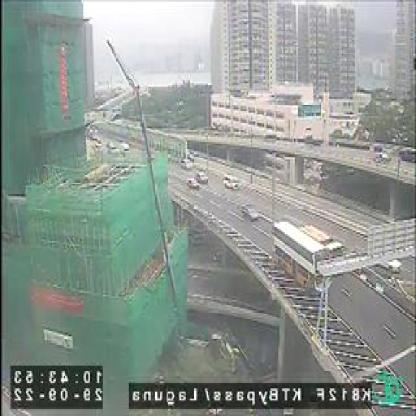Bus: (276, 217, 332, 298)
Car: (243, 201, 263, 224), (224, 174, 239, 188), (188, 175, 199, 191), (199, 170, 208, 182), (184, 156, 192, 168)
Truck: (302, 218, 344, 258)
